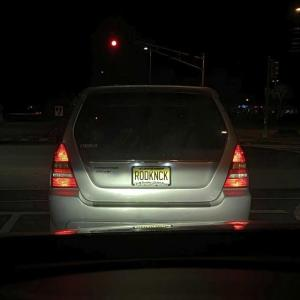Plate: (131, 166, 171, 186)
